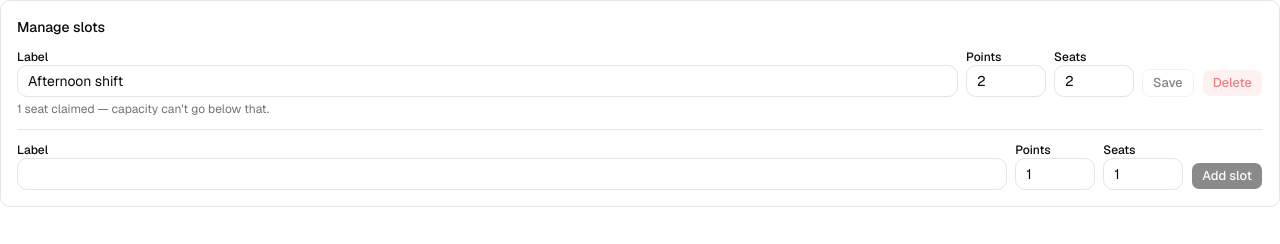
Scenario: SlotEditor › surfaces guard rejections from the server
The width and height of the screenshot is (1280, 244).
Replace the text in the 1st number field labelled "Seats" with "3" at point(1094, 81), box [1054, 65, 1134, 97]
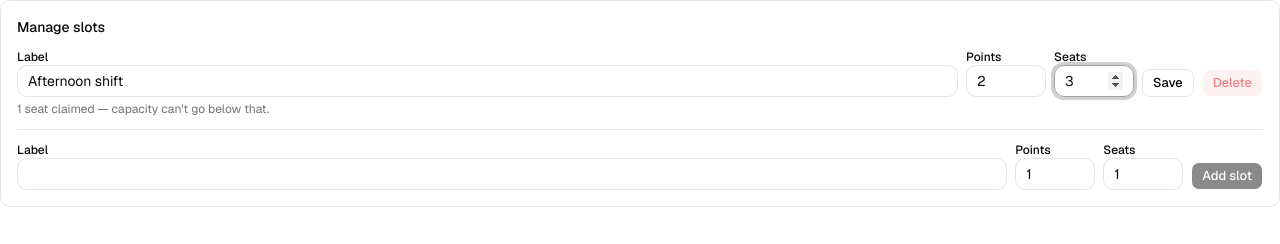
Click the button "Save".
click(1168, 83)  # box [1142, 69, 1194, 97]
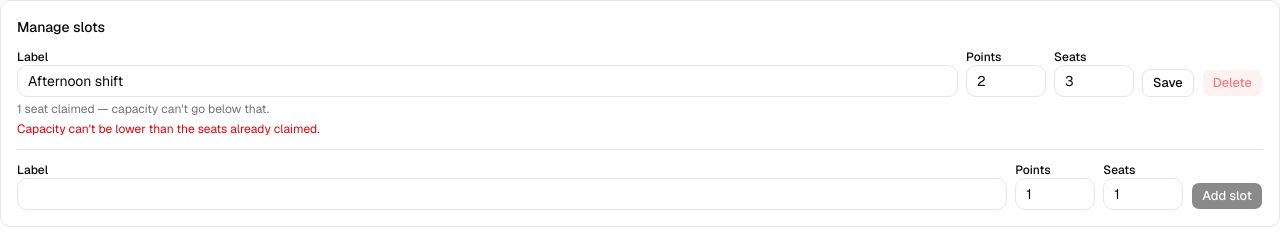
Check: the message shows "Capacity can't be lower", box [17, 121, 320, 137]
